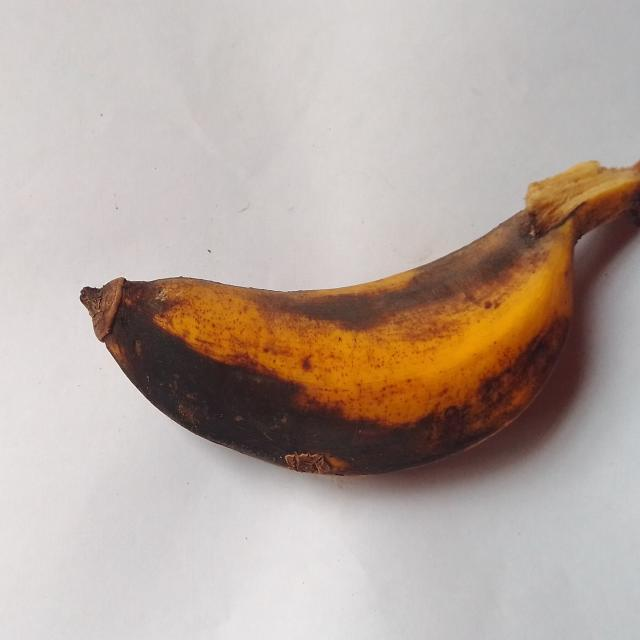banana: (81, 163, 639, 474)
